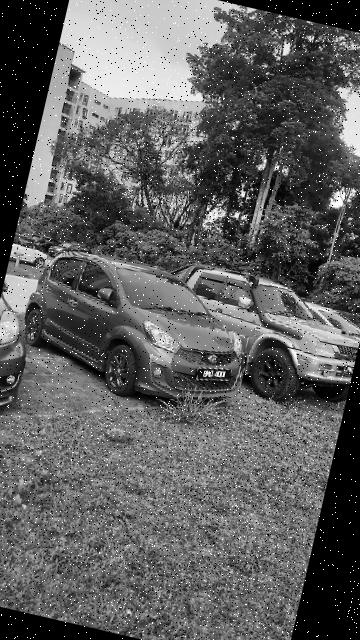License_Plate: (196, 363, 236, 390), (342, 364, 356, 376)
car: (13, 238, 270, 426), (141, 253, 360, 417)
